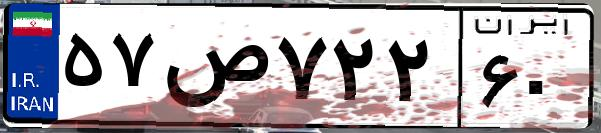0: (525, 38, 570, 115)
2: (385, 28, 445, 110), (330, 28, 385, 110)
5: (57, 26, 110, 100)
6: (475, 38, 525, 113)
7: (270, 28, 330, 110), (110, 28, 158, 98)
ص: (158, 20, 270, 120)
